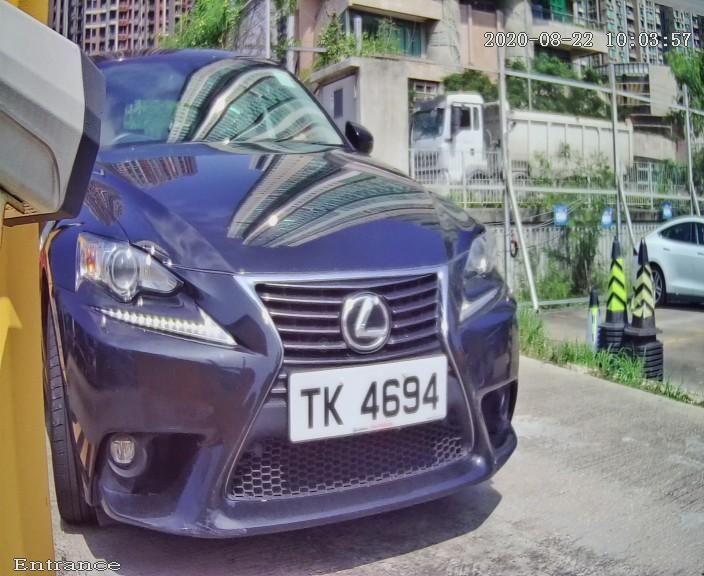Car: (7, 11, 554, 576)
License Plate: (259, 332, 459, 462)
